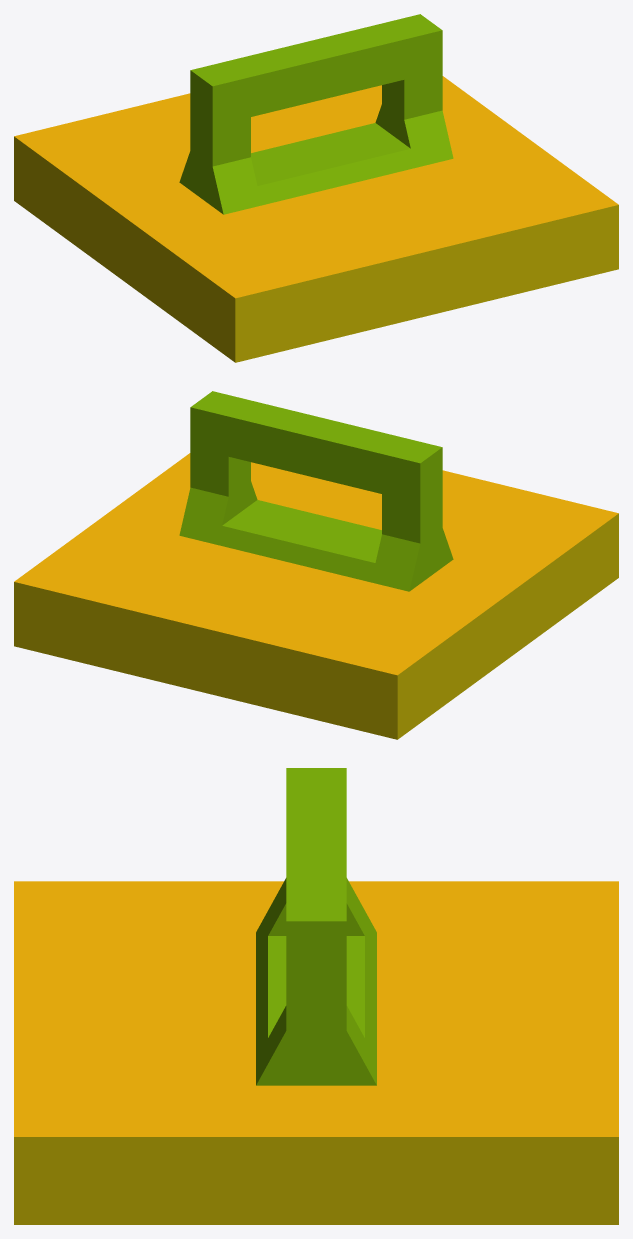
The model's file is sp_panel_handle.dae.
The picture shows the model from 3 angles, top to bottom: view 1: azimuth 30°, elevation 25°; view 2: azimuth 150°, elevation 25°; view 3: azimuth 270°, elevation 25°; orthographic projection. The views are drawn at different scales.
Parts seen in each view (by area): view 1: panel_handle; view 2: panel_handle; view 3: panel_handle.
Part boxes in pixels (x1,y1,x2,y2): panel_handle: (14, 14, 618, 362); panel_handle: (14, 391, 618, 739); panel_handle: (14, 768, 618, 1224).
Bounding box in the file's own units: 0.2502 × 0.2502 × 0.1152.
